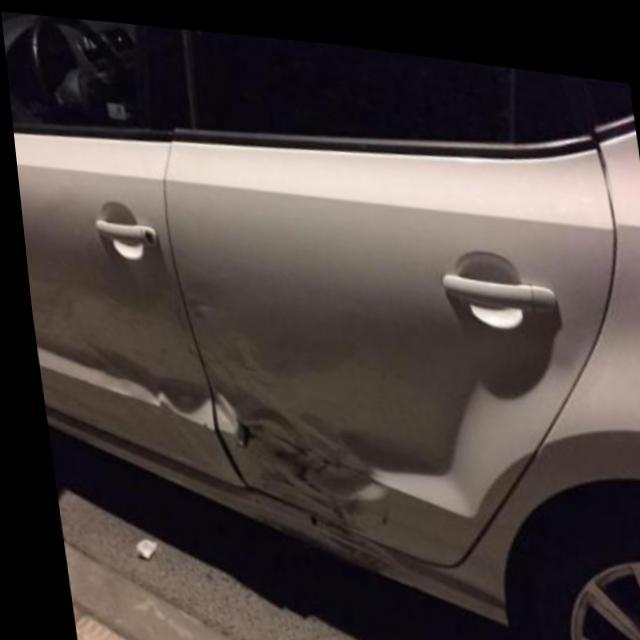dent: (102, 328, 408, 521)
scratch: (315, 525, 383, 563)
